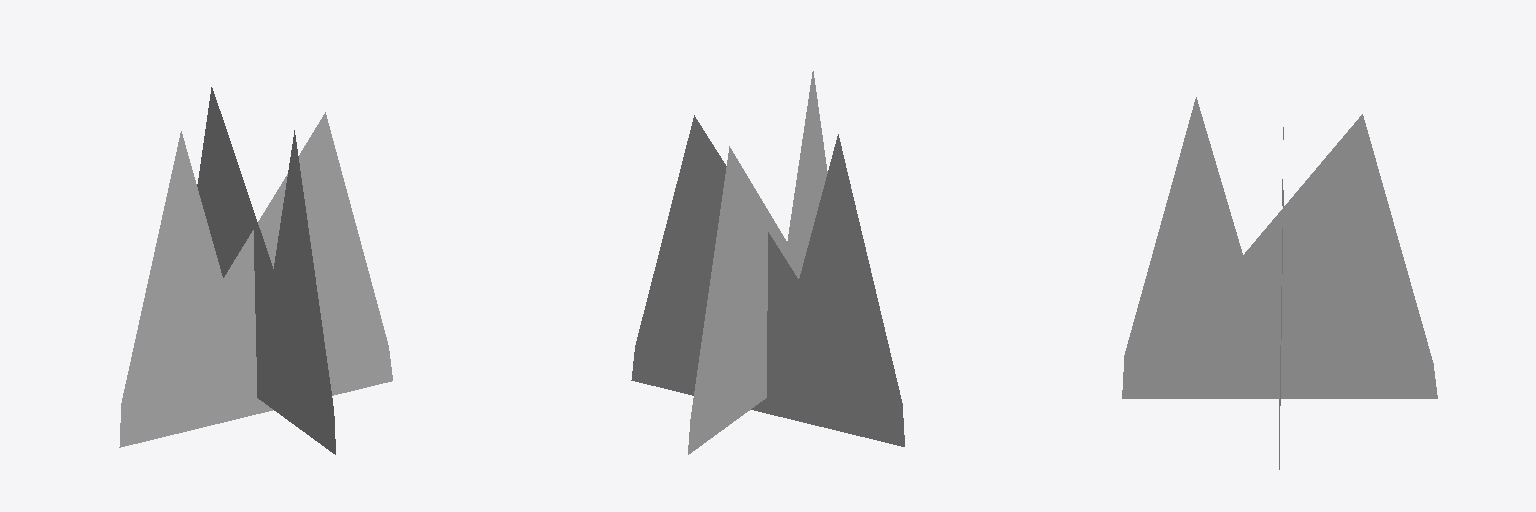
The model's file is grass.obj.
The picture shows the model from 3 angles: view 1: azimuth 30°, elevation 25°; view 2: azimuth 150°, elevation 25°; view 3: azimuth 270°, elevation 25°; orthographic projection.
Parts seen in each view (by area): view 1: Plane, Plane.001; view 2: Plane, Plane.001; view 3: Plane.001.
Part boxes in pixels (x1,y1,x2,y2): Plane: (119, 112, 392, 447); Plane.001: (197, 87, 335, 454); Plane: (631, 115, 904, 446); Plane.001: (688, 71, 827, 454); Plane.001: (1122, 97, 1437, 398).
Bounding box in the file's own units: 2 × 2.21 × 2.